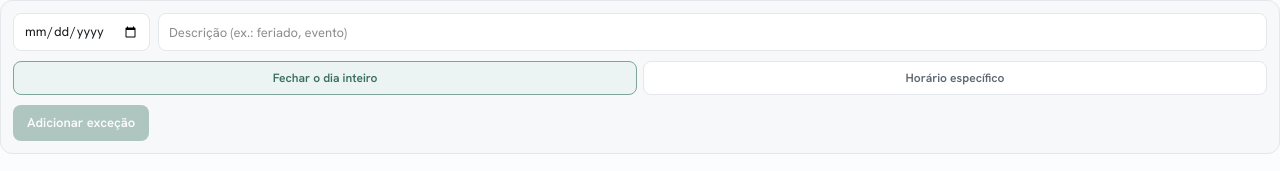
ExceptionForm › "Adicionar" fica desabilitado até haver data
Expected: the button "Adicionar exceção" is disabled, 13,105 -> 149,140
Step 1. Type "2026-07-09" into the date field named "Data da exceção" → (82, 32), box 13,13 -> 150,51
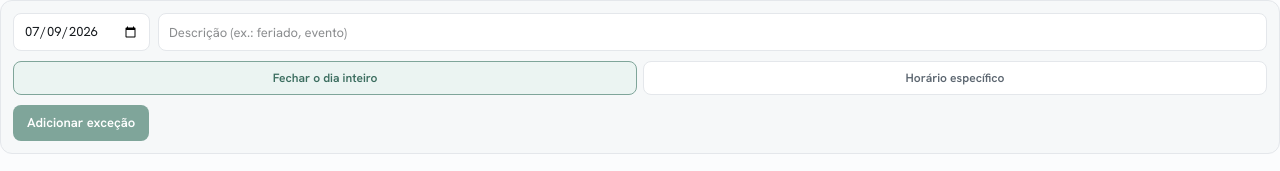
Result: the button "Adicionar exceção" is enabled at 13,105 -> 149,140
